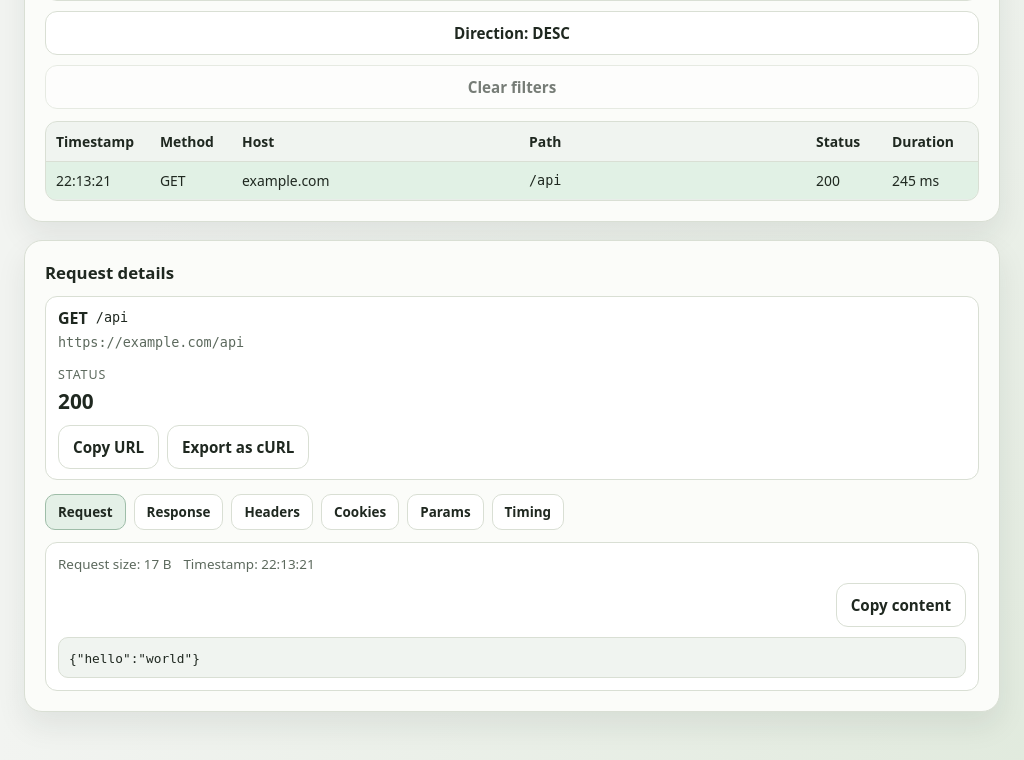
Test case: App › renders captured request details when data exists
The width and height of the screenshot is (1024, 760).
(page scrolled)
Check: the text "https://example.com/api" is shown, box [58,335,244,350]
Check: the text "{\"hello\":\"world\"}" is shown, box [69,651,200,666]
What coordinates should you click on to do the following:
click the button "Headers"
I would click on:
 (272, 512)
Its box is [231,494,313,530].
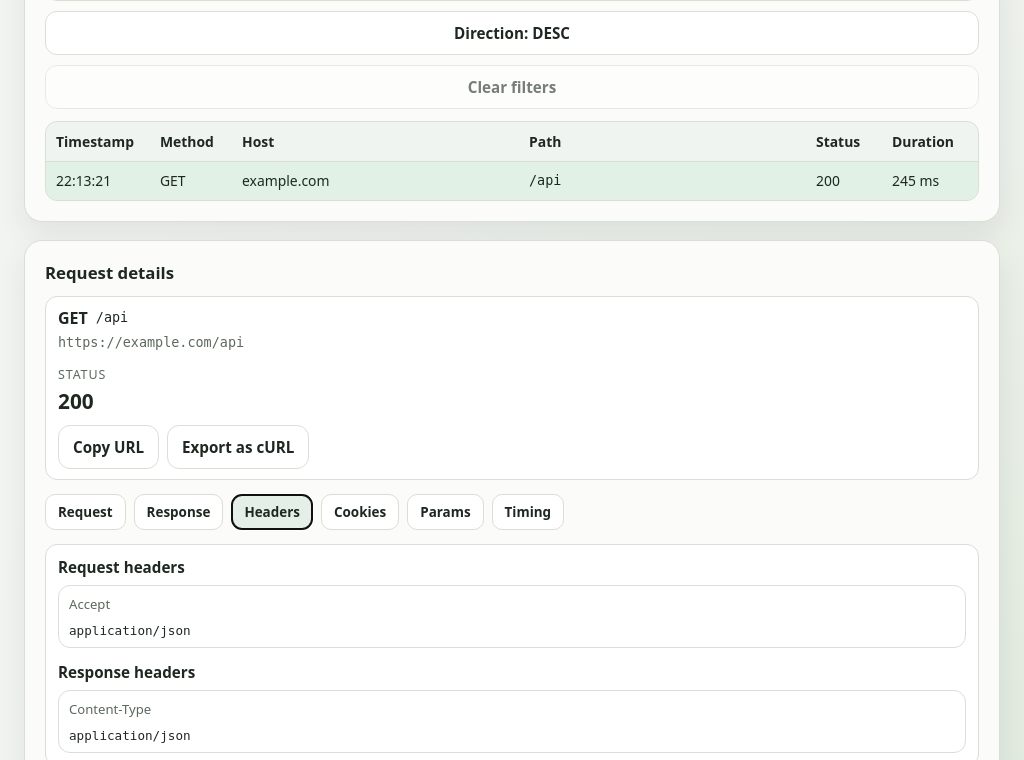
Check: the text "Accept" is shown, box [69,595,110,613]
Check: the text "application/json" is shown 2 times, box [69,623,191,638]; [69,728,191,743]
